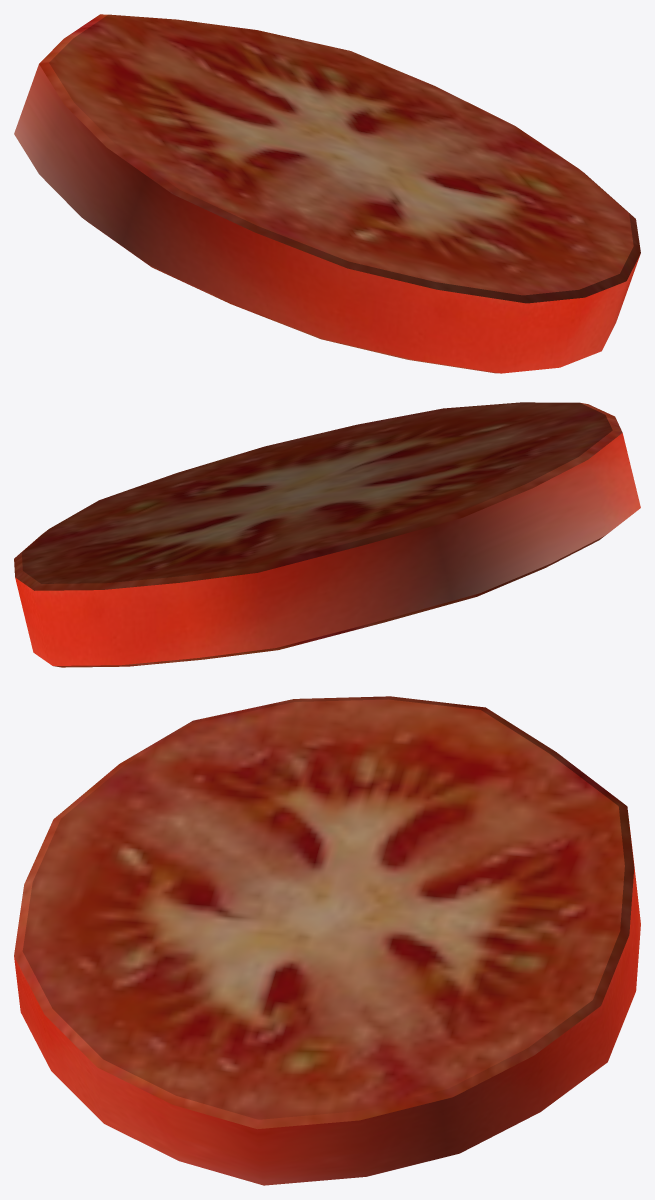
The model's file is Jitomate.obj.
3 renders of one model, top to bottom at view 1: azimuth 30°, elevation 25°; view 2: azimuth 150°, elevation 25°; view 3: azimuth 270°, elevation 25°, orthographic.
Parts seen in each view (by area): view 1: salad_plate_for_restaurent_ar:Mesh polySurface27, salad_plate_for_restaurent_ar:Mesh polySurface28, polySurface26 salad_plate_for_restaurent_ar:Mesh; view 2: salad_plate_for_restaurent_ar:Mesh polySurface27, salad_plate_for_restaurent_ar:Mesh polySurface28, polySurface26 salad_plate_for_restaurent_ar:Mesh; view 3: salad_plate_for_restaurent_ar:Mesh polySurface27, salad_plate_for_restaurent_ar:Mesh polySurface28.
Part boxes in pixels (bbox=[...]): salad_plate_for_restaurent_ar:Mesh polySurface27: bbox=[39, 14, 640, 303]; salad_plate_for_restaurent_ar:Mesh polySurface28: bbox=[14, 64, 640, 373]; polySurface26 salad_plate_for_restaurent_ar:Mesh: bbox=[84, 219, 501, 373]; salad_plate_for_restaurent_ar:Mesh polySurface27: bbox=[14, 402, 622, 590]; salad_plate_for_restaurent_ar:Mesh polySurface28: bbox=[15, 433, 640, 665]; polySurface26 salad_plate_for_restaurent_ar:Mesh: bbox=[53, 535, 605, 667]; salad_plate_for_restaurent_ar:Mesh polySurface27: bbox=[14, 696, 634, 1129]; salad_plate_for_restaurent_ar:Mesh polySurface28: bbox=[14, 815, 640, 1185].
Size of the model in its own units: 1.27 by 0.5897 by 1.31.
2 materials, 2 textured.
